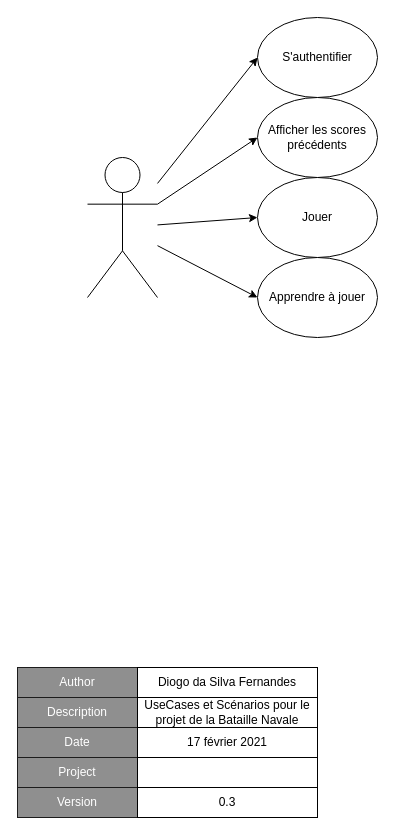
This 395x835 diagram has some shape labels left out. Here are the shapes that lost their labels. From the top down, the centre of each, then its label:
(x=122, y=227): Joueur
(x=227, y=772): Bataille Navale - V1
